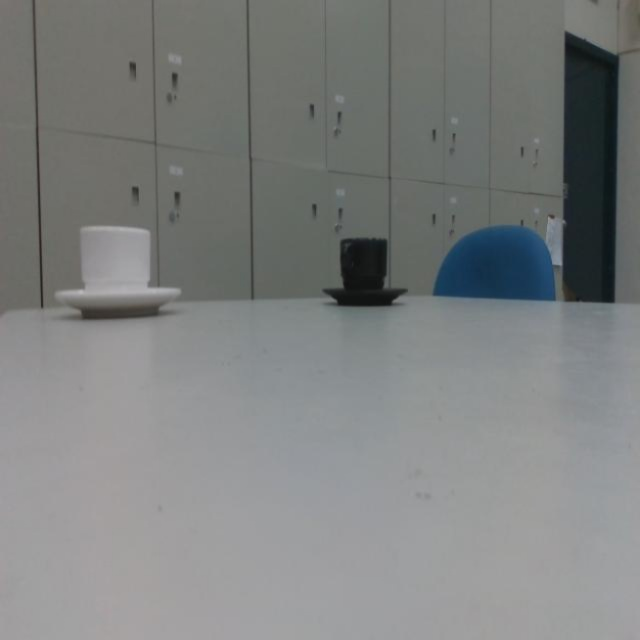black: (321, 235, 408, 308)
white: (52, 220, 184, 320)
